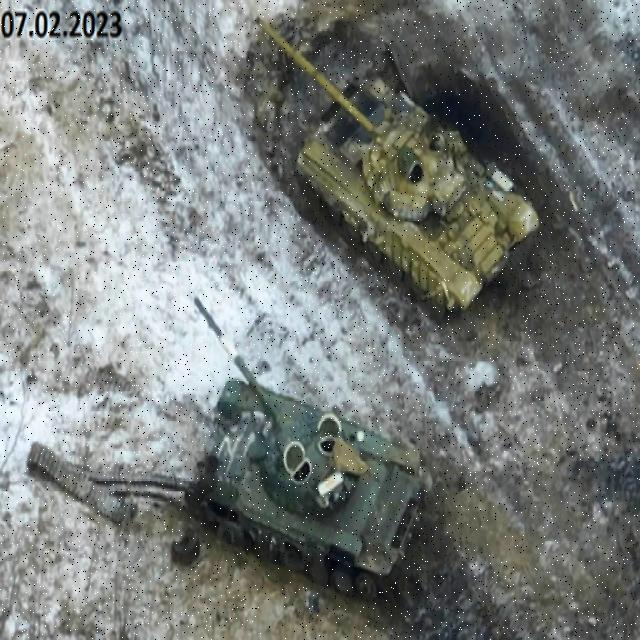TANK: (252, 11, 538, 320), (182, 284, 426, 594)
